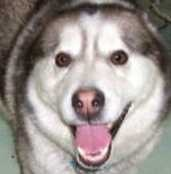Dog: (26, 8, 156, 173)
